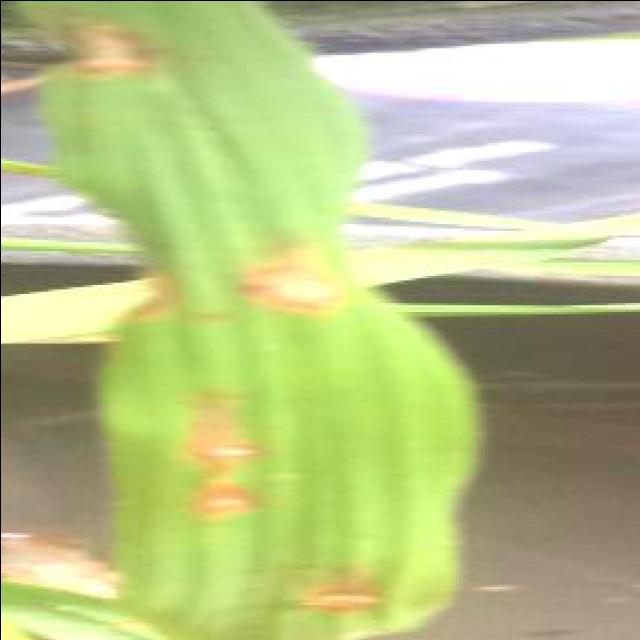Leaf_Blast: (266, 505, 447, 633), (223, 216, 374, 334), (160, 374, 300, 476), (47, 5, 167, 104), (180, 468, 282, 534)
